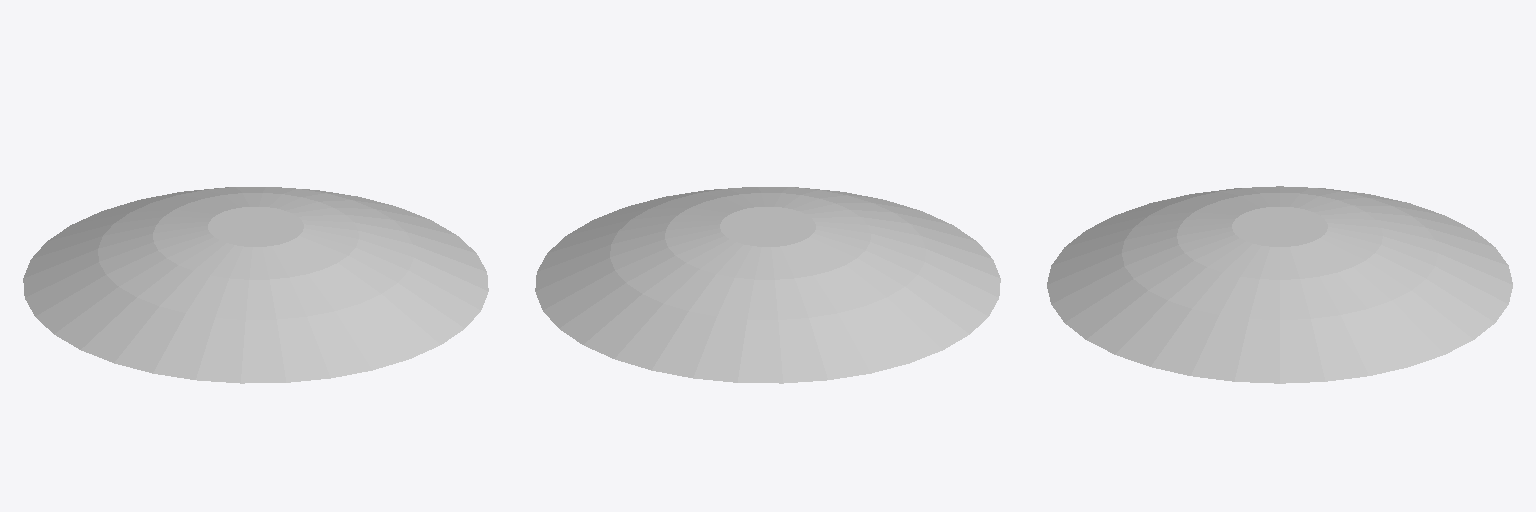
Rendered from terrain.obj.
The picture shows the model from 3 angles: view 1: azimuth 30°, elevation 25°; view 2: azimuth 150°, elevation 25°; view 3: azimuth 270°, elevation 25°; orthographic projection.
Visible parts, largest first — view 1: Sphere; view 2: Sphere; view 3: Sphere.
Boxes of the visible parts, box(x1,y1,x2,y2) form: Sphere: box(23, 187, 488, 383); Sphere: box(535, 187, 1000, 383); Sphere: box(1047, 186, 1512, 383).
Bounding box in the file's own units: 6441 × 888 × 6441.